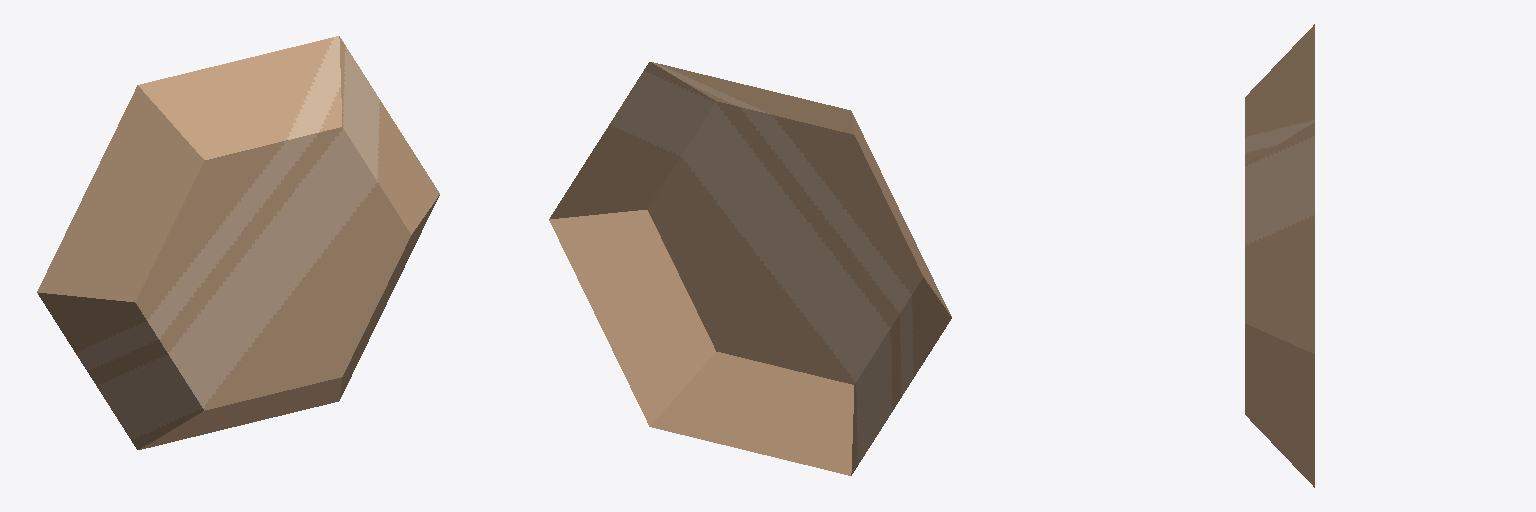
3 renders of one model, left to right at view 1: azimuth 30°, elevation 25°; view 2: azimuth 150°, elevation 25°; view 3: azimuth 270°, elevation 25°, orthographic.
Parts seen in each view (by area): view 1: hex; view 2: hex; view 3: hex.
Boxes of the visible parts, <box> form: hex: <box>37,36,439,449</box>; hex: <box>549,62,951,475</box>; hex: <box>1245,24,1314,487</box>.
Size of the model in its own units: 2 by 1.73 by 0.3.
1 materials, 1 textured.